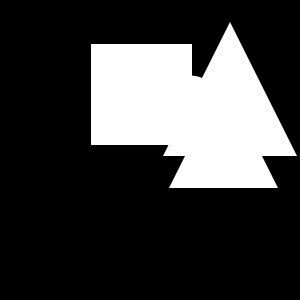circle: (91, 44, 192, 145)
rectangle: (160, 76, 220, 136)
triangle: (163, 22, 297, 156), (169, 79, 278, 188)
